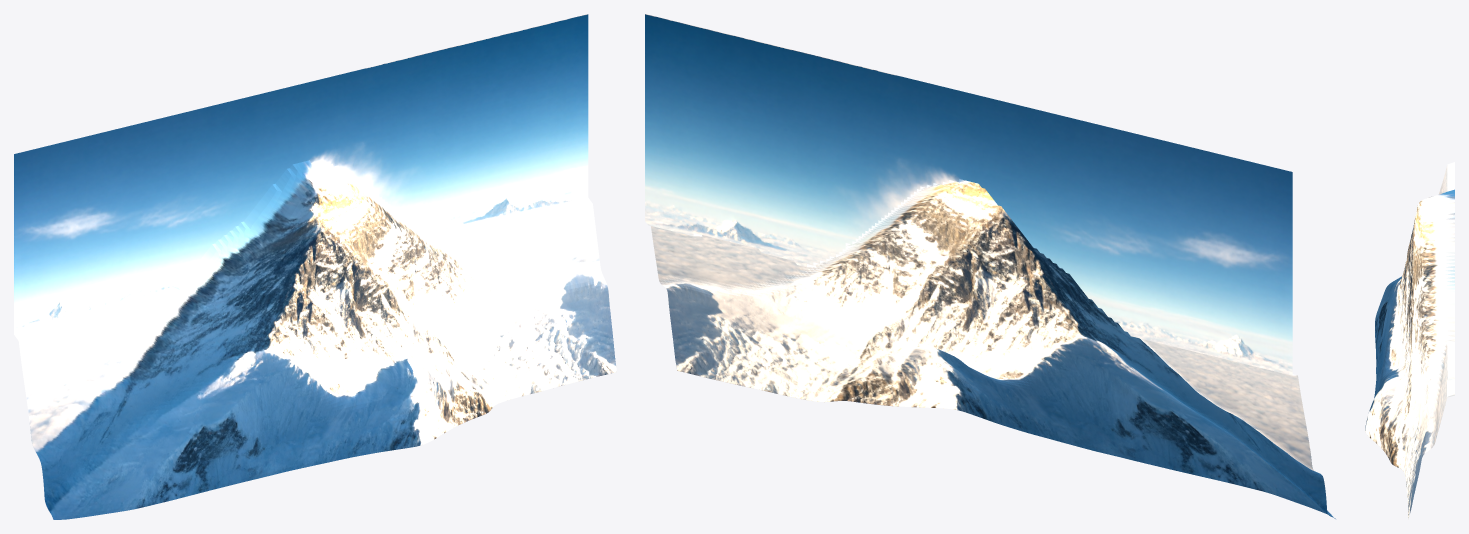
File: everest.glb
3 views of the same model, side by side, from view 1: azimuth 30°, elevation 25°; view 2: azimuth 150°, elevation 25°; view 3: azimuth 270°, elevation 25° (orthographic). The views are drawn at different scales.
Visible parts, largest first — view 1: geometry_0; view 2: geometry_0; view 3: geometry_0.
Part boxes in pixels (x1,y1,x2,y2): geometry_0: (14, 14, 616, 519); geometry_0: (645, 14, 1335, 518); geometry_0: (1365, 162, 1454, 518).
Bounding box in the file's own units: 60 × 33.66 × 9.92.
Materials: 1 (1 with a texture image).
